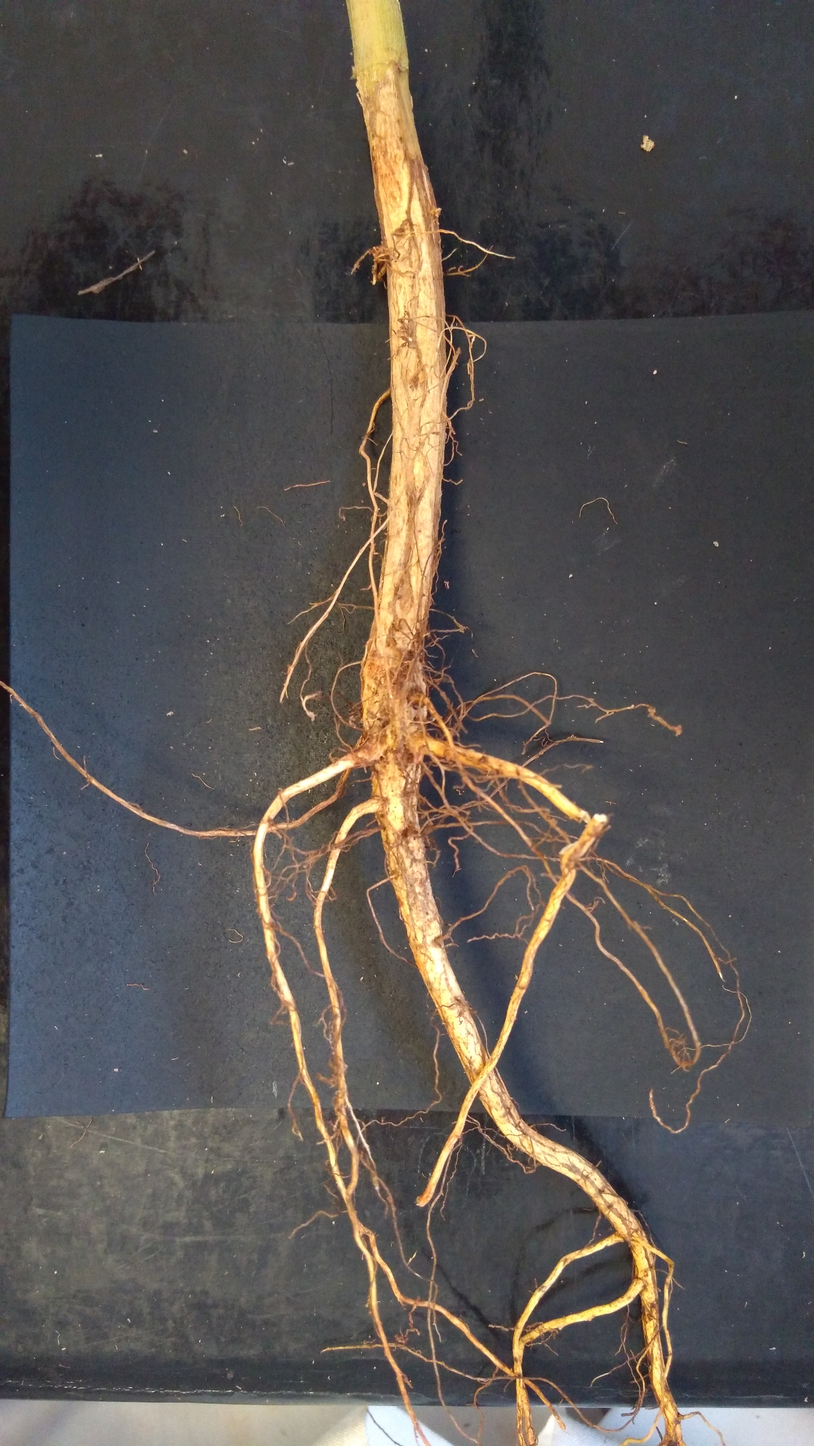nodule: (391, 676, 428, 737), (354, 725, 391, 763), (558, 840, 581, 876), (371, 244, 389, 264), (640, 135, 655, 152), (394, 1332, 409, 1345), (433, 207, 442, 218), (362, 482, 365, 487)
